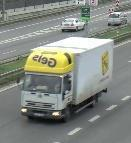car: (61, 15, 85, 31), (107, 11, 128, 26)
truck: (20, 37, 114, 123)
